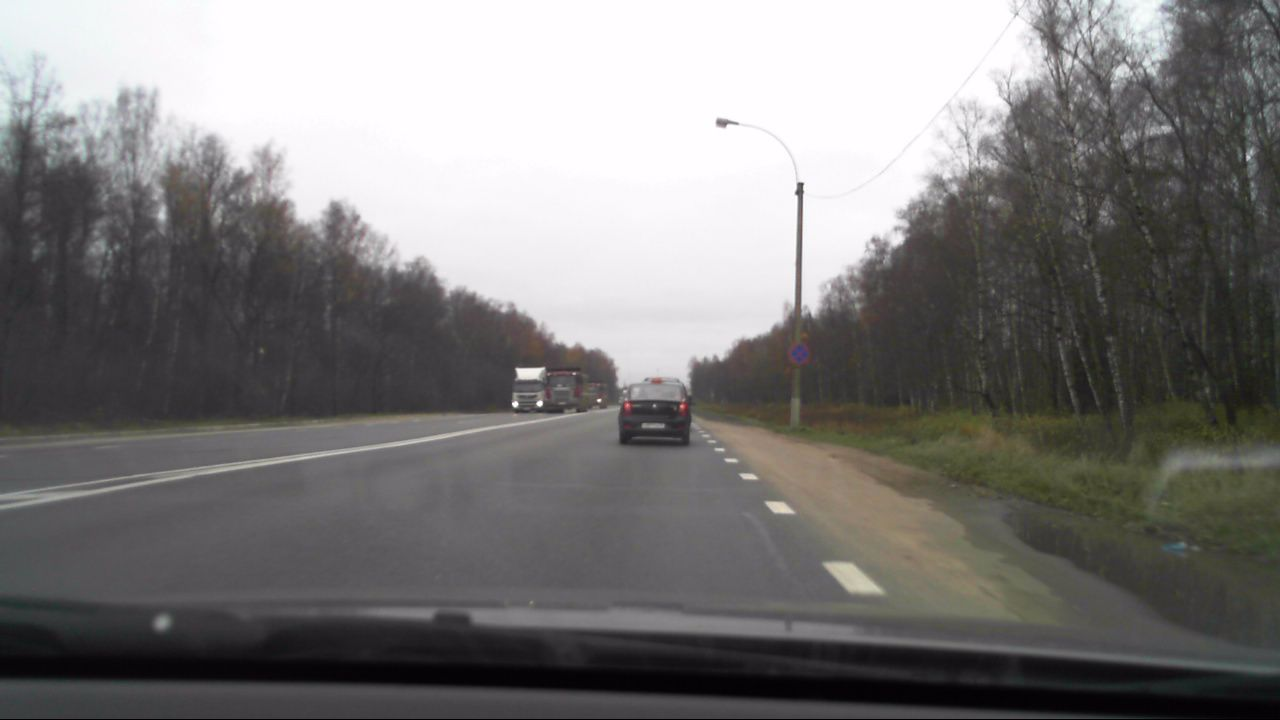No Parking: (784, 340, 811, 367)
